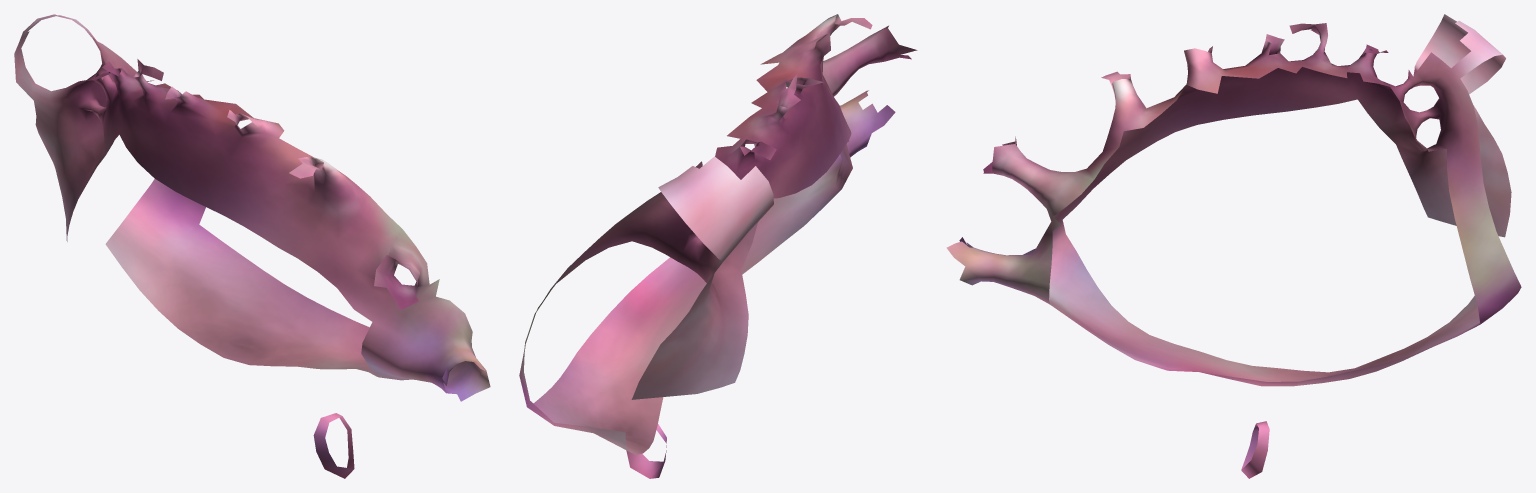
Rendered from leftovers.obj.
The picture shows the model from 3 angles, left to right: view 1: azimuth 30°, elevation 25°; view 2: azimuth 150°, elevation 25°; view 3: azimuth 270°, elevation 25°; orthographic projection. The views are drawn at different scales.
Visible parts, largest first — view 1: leftovers; view 2: leftovers; view 3: leftovers.
Boxes of the visible parts, x1=… form: leftovers: x1=14, y1=14, x2=490, y2=478; leftovers: x1=519, y1=14, x2=917, y2=478; leftovers: x1=946, y1=14, x2=1521, y2=478.
Bounding box in the file's own units: 282 × 441 × 597.
Materials: 1 (1 with a texture image).
